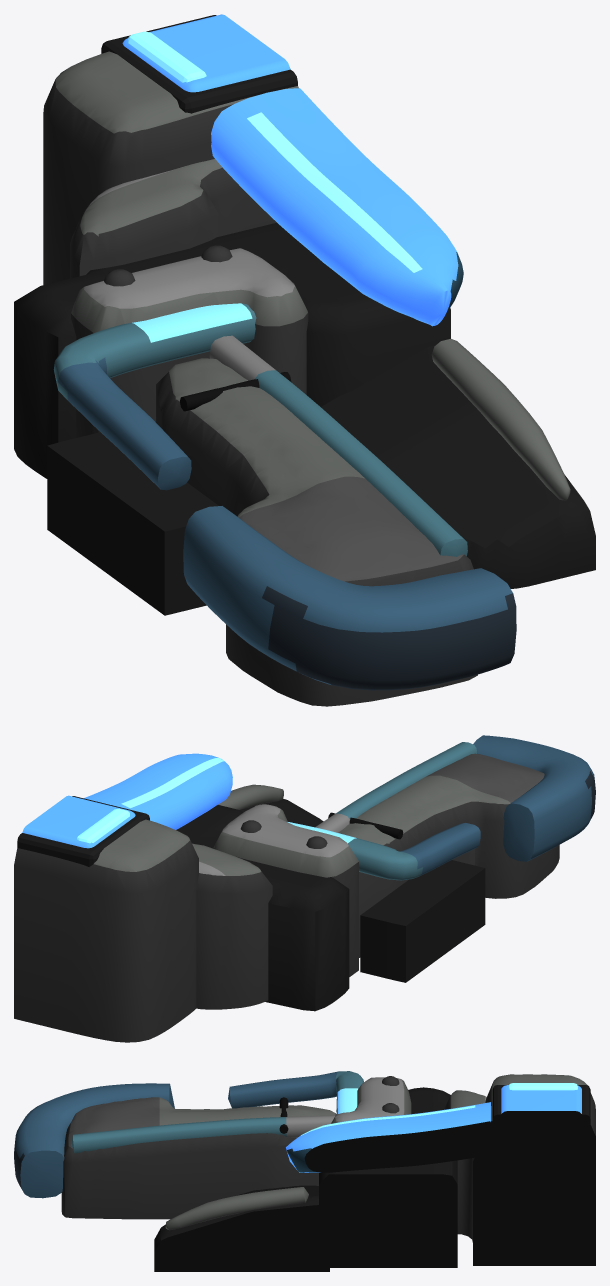
Rendered from grabber_left.glb.
3 renders of one model, top to bottom at view 1: azimuth 30°, elevation 25°; view 2: azimuth 150°, elevation 25°; view 3: azimuth 270°, elevation 25°, orthographic. The views are drawn at different scales.
Parts seen in each view (by area): view 1: leg.002, shoe.002, bar.001, keel.001, beam.001, neck.001, web.002, shoulder.002, bracket.002, collar.001, strip.002, ridge.001 (+3 smaller); view 2: neck.001, leg.002, beam.001, collar.001, web.002, shoe.002, shoulder.002, bar.001, bracket.002, window.001, strip.002, window_frame.001 (+3 smaller); view 3: leg.002, neck.001, beam.001, bar.001, keel.001, shoe.002, collar.001, strip.002, bracket.002, window.001, ridge.001, window_frame.001 (+2 smaller).
Part boxes in pixels (x1,y1,x2,y2): leg.002: (156, 358, 477, 706); shoe.002: (183, 506, 516, 690); bar.001: (211, 88, 463, 326); keel.001: (321, 345, 595, 588); beam.001: (14, 222, 450, 478); neck.001: (43, 51, 298, 284); web.002: (47, 432, 218, 615); shoulder.002: (71, 248, 308, 437); bracket.002: (53, 303, 256, 490); collar.001: (70, 159, 276, 278); strip.002: (209, 335, 467, 556); ridge.001: (431, 339, 570, 500); neck.001: (14, 819, 198, 1042); leg.002: (338, 753, 559, 957); beam.001: (176, 805, 349, 1011); collar.001: (192, 843, 272, 1009); web.002: (360, 860, 485, 982); shoe.002: (473, 735, 595, 861); shoulder.002: (213, 804, 358, 976); bar.001: (84, 753, 232, 829); bracket.002: (286, 821, 480, 880); window.001: (22, 795, 135, 848); strip.002: (315, 742, 476, 832); window_frame.001: (17, 796, 149, 866); leg.002: (61, 1097, 336, 1219); neck.001: (485, 1074, 595, 1265); beam.001: (319, 1087, 457, 1267); bar.001: (286, 1102, 497, 1172); keel.001: (154, 1185, 329, 1271); shoe.002: (14, 1083, 174, 1198); collar.001: (444, 1090, 504, 1265); strip.002: (71, 1115, 335, 1153); bracket.002: (228, 1071, 363, 1114); window.001: (500, 1085, 582, 1128); ridge.001: (165, 1187, 308, 1230); window_frame.001: (492, 1085, 590, 1136).
Size of the model in its own units: 12.1 by 8.2 by 26.48.
